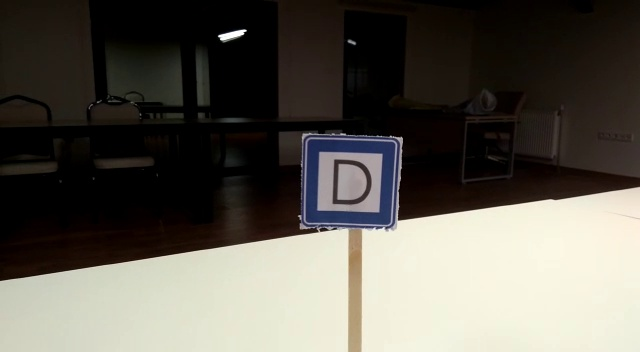durak: (302, 140, 397, 225)
